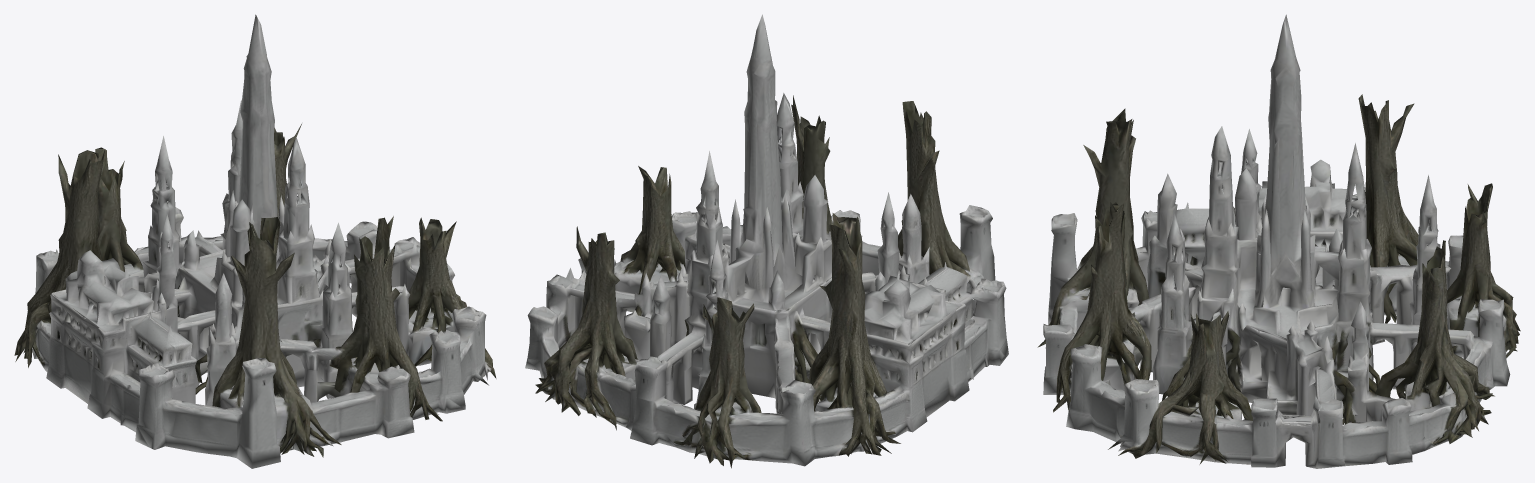
Rendered from Эльфы5.glb.
The picture shows the model from 3 angles, left to right: view 1: azimuth 30°, elevation 25°; view 2: azimuth 150°, elevation 25°; view 3: azimuth 270°, elevation 25°; orthographic projection. The views are drawn at different scales.
Visible parts, largest first — view 1: tripo_node_d13b96dd-1c3c-4373-b763-bfb049ed7a16; view 2: tripo_node_d13b96dd-1c3c-4373-b763-bfb049ed7a16; view 3: tripo_node_d13b96dd-1c3c-4373-b763-bfb049ed7a16.
Part boxes in pixels (x1,y1,x2,y2): tripo_node_d13b96dd-1c3c-4373-b763-bfb049ed7a16: (14,14,496,468); tripo_node_d13b96dd-1c3c-4373-b763-bfb049ed7a16: (525,14,1008,468); tripo_node_d13b96dd-1c3c-4373-b763-bfb049ed7a16: (1037,14,1520,468).
Size of the model in its own units: 0.9254 by 0.825 by 1.
Materials: 1 (1 with a texture image).
